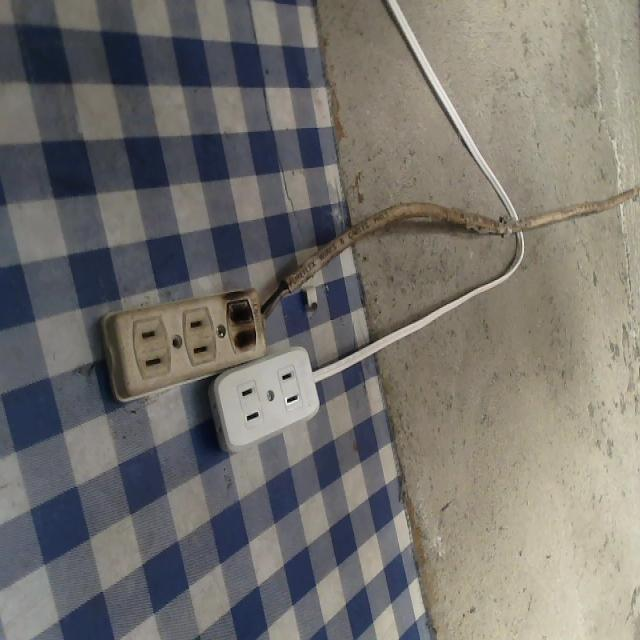-: (218, 283, 268, 360)
